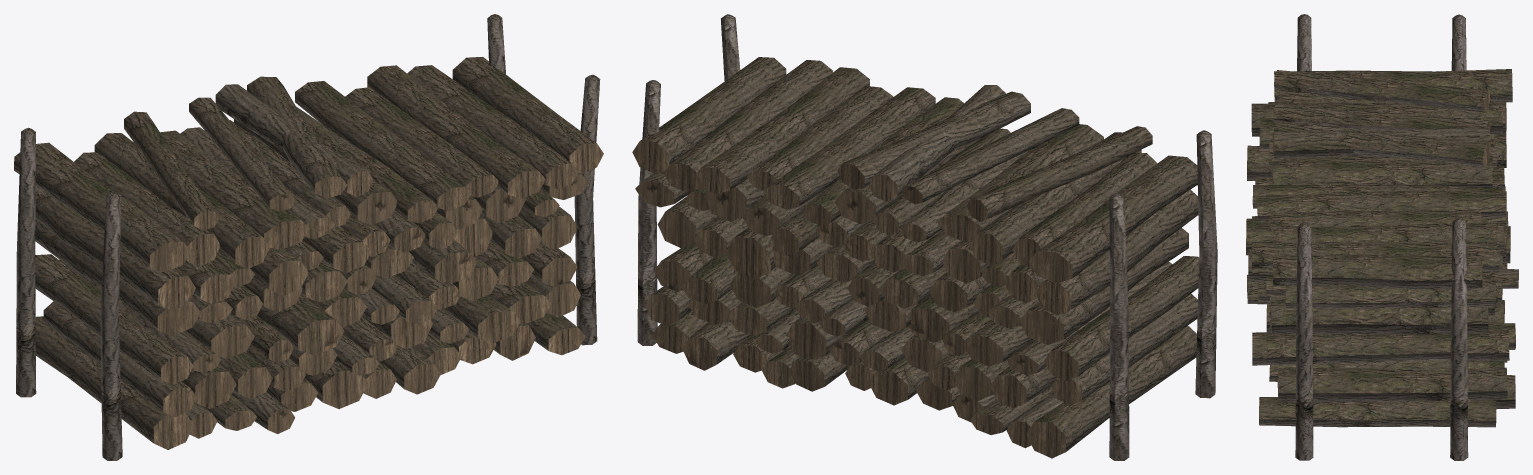
Rendered from kit_woodpile_p.glb.
3 views of the same model, side by side, from view 1: azimuth 30°, elevation 25°; view 2: azimuth 150°, elevation 25°; view 3: azimuth 270°, elevation 25° (orthographic). The views are drawn at different scales.
Visible parts, largest first — view 1: kit_woodpile_p; view 2: kit_woodpile_p; view 3: kit_woodpile_p.
Part boxes in pixels (x1=…): kit_woodpile_p: x1=14, y1=14, x2=603, y2=460; kit_woodpile_p: x1=632, y1=14, x2=1217, y2=460; kit_woodpile_p: x1=1246, y1=14, x2=1518, y2=460.
Size of the model in its own units: 1.98 by 1.02 by 1.06.
Materials: 1 (1 with a texture image).
